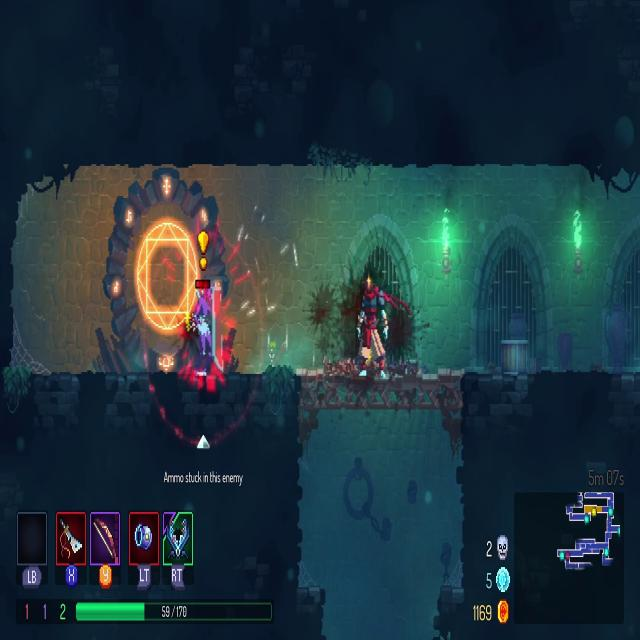agents: (354, 270, 391, 383)
enemy_purple_shield: (192, 281, 225, 380)
